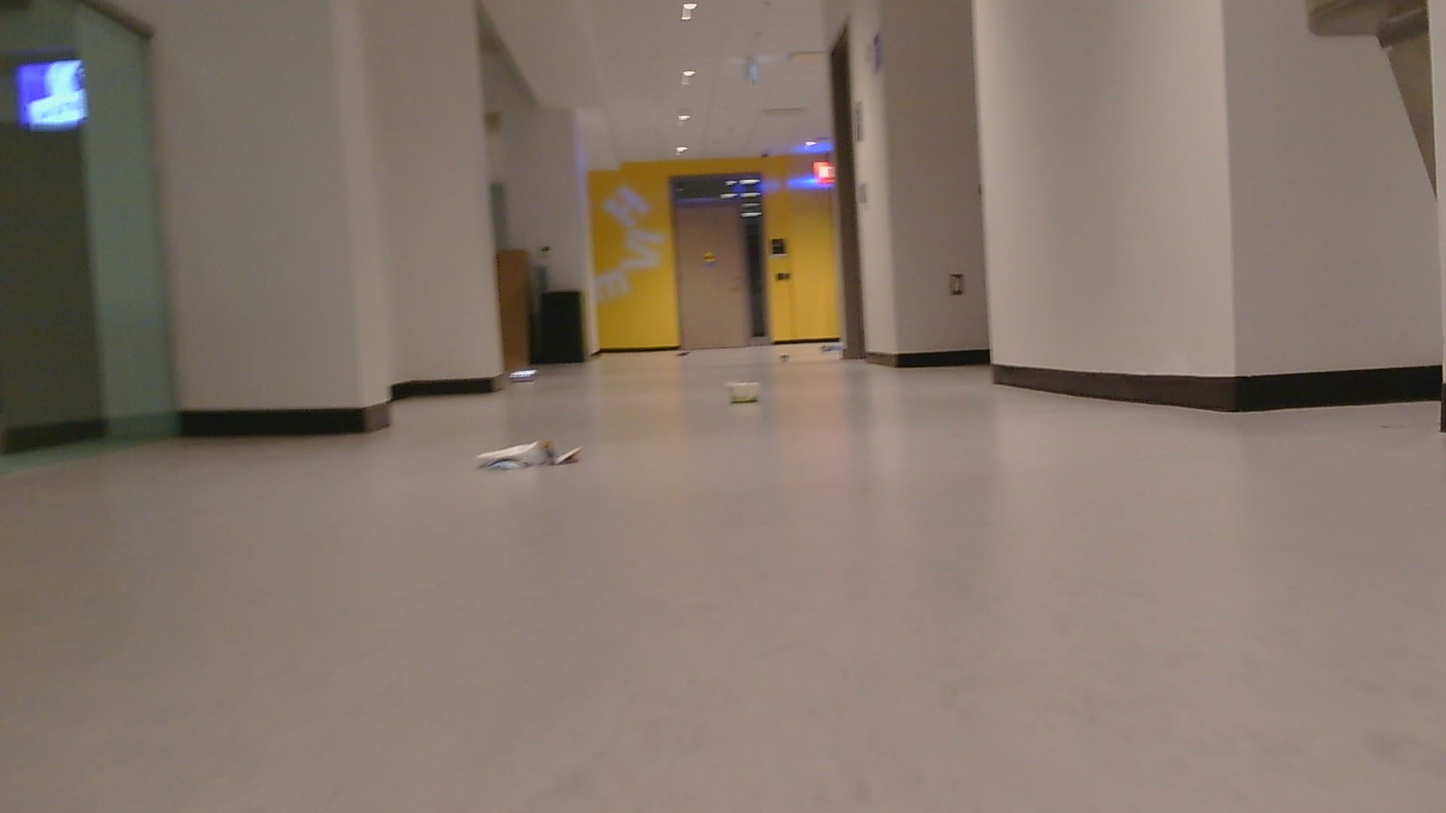carton: (464, 434, 591, 482), (723, 376, 764, 407), (511, 361, 547, 389), (818, 339, 852, 356), (676, 337, 698, 361), (777, 346, 794, 361)
